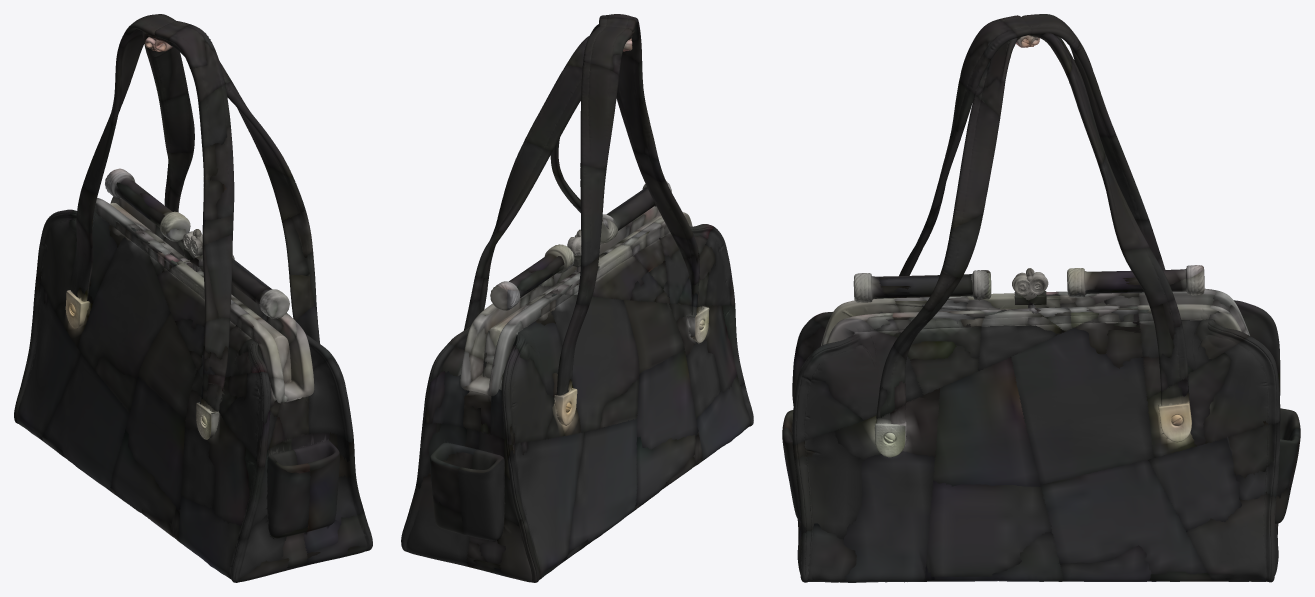
File: black-handbag.glb
3 views of the same model, side by side, from view 1: azimuth 30°, elevation 25°; view 2: azimuth 150°, elevation 25°; view 3: azimuth 270°, elevation 25° (orthographic). The views are drawn at different scales.
Visible parts, largest first — view 1: tripo_node_01cd49d6-fd3d-40b0-89a9-f619d93be9ab; view 2: tripo_node_01cd49d6-fd3d-40b0-89a9-f619d93be9ab; view 3: tripo_node_01cd49d6-fd3d-40b0-89a9-f619d93be9ab.
Part boxes in pixels (<box>): tripo_node_01cd49d6-fd3d-40b0-89a9-f619d93be9ab: <box>14,14,372,582</box>; tripo_node_01cd49d6-fd3d-40b0-89a9-f619d93be9ab: <box>401,14,753,582</box>; tripo_node_01cd49d6-fd3d-40b0-89a9-f619d93be9ab: <box>782,14,1300,582</box>.
Bounding box in the file's own units: 0.3055 × 0.9796 × 0.8988.
Materials: 1 (1 with a texture image).
